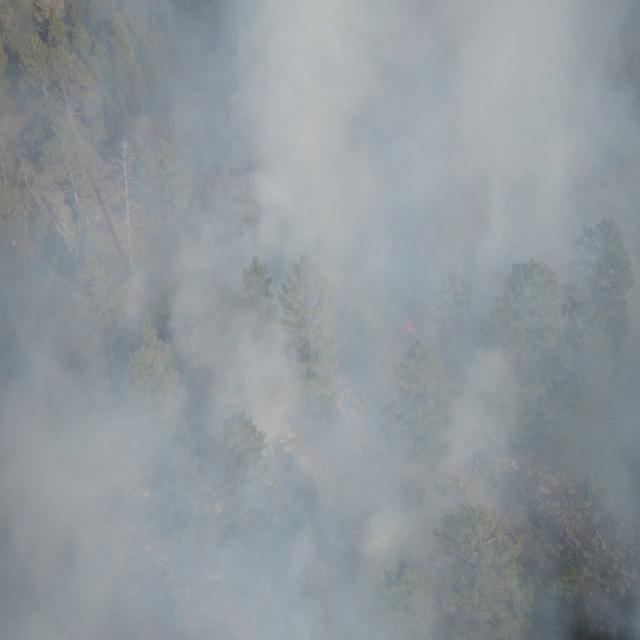fire: (402, 316, 418, 334)
smoke: (0, 0, 640, 640)
